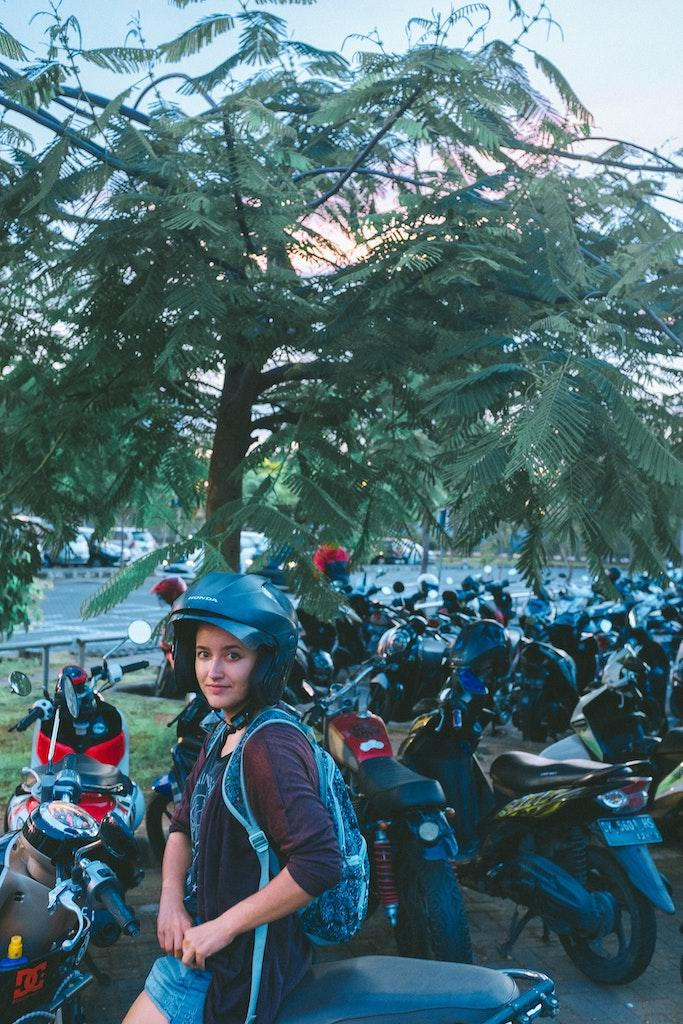helmet: (165, 569, 300, 735)
